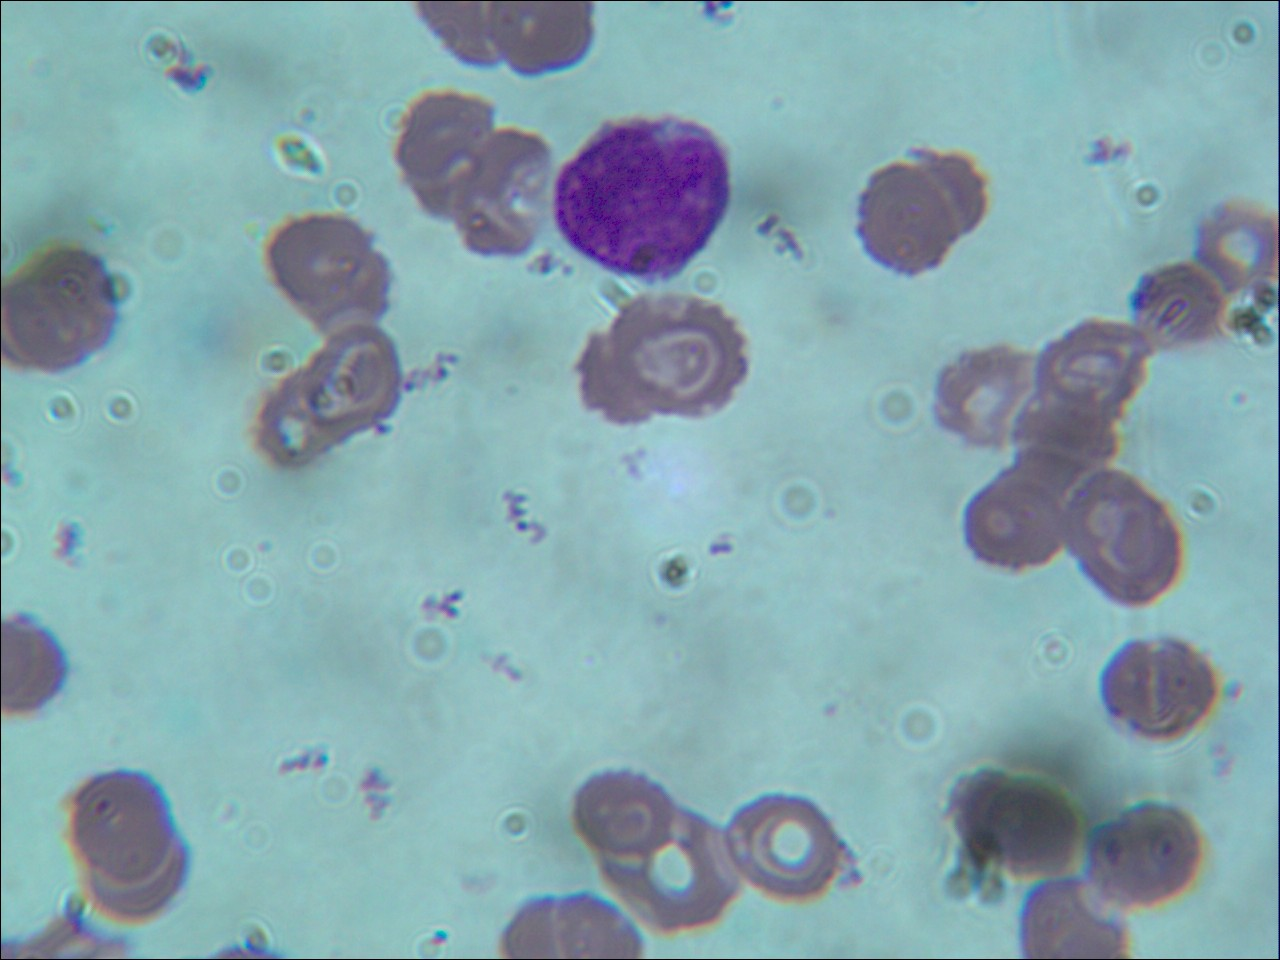Eritrosit: (589, 800, 749, 940), (1059, 471, 1190, 612), (612, 294, 746, 414), (1, 242, 118, 375), (264, 218, 395, 327), (726, 786, 843, 906), (954, 768, 1079, 878), (1084, 802, 1208, 909), (451, 131, 554, 258), (1095, 637, 1215, 744), (299, 325, 402, 437), (926, 344, 1039, 444), (68, 771, 173, 877), (389, 87, 499, 187), (855, 164, 952, 274), (1040, 318, 1149, 412), (1012, 880, 1133, 960), (958, 478, 1064, 569), (83, 834, 195, 919), (481, 1, 605, 75), (574, 771, 676, 855), (1187, 200, 1276, 292), (258, 375, 346, 467), (1012, 396, 1118, 472), (1133, 264, 1226, 349), (909, 149, 992, 242), (545, 893, 642, 960)
Limfoblast: (554, 112, 736, 277)
Platelet: (702, 533, 734, 564), (421, 927, 452, 950)
